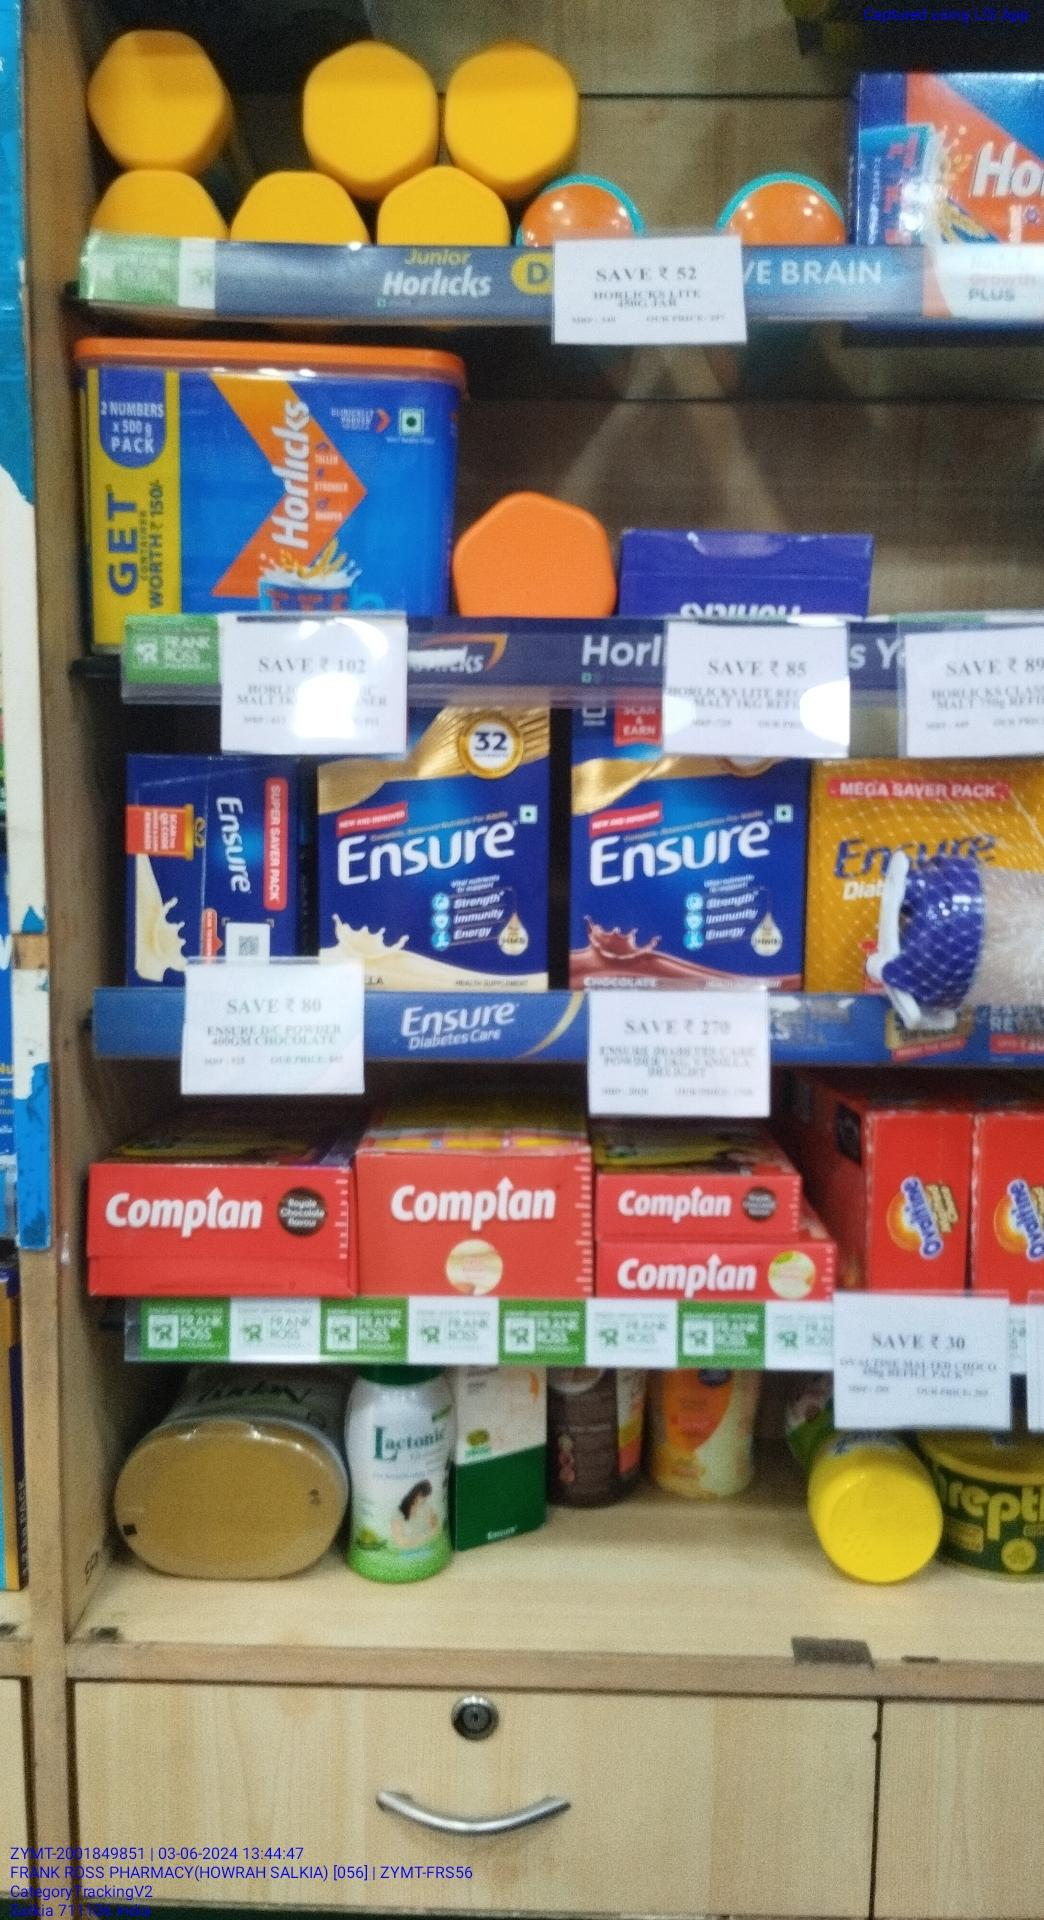ENSURE_VANILLA_400_G_PACK: (320, 758, 553, 996)
HORLICK_MALT_1_KG_CONTAINER: (82, 337, 446, 613)
